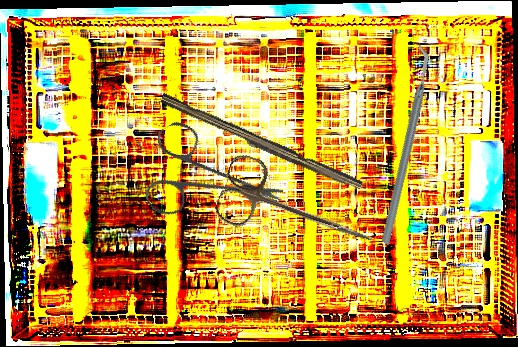Chopper: (312, 43, 496, 246)
Iris Scissors: (120, 92, 287, 260), (211, 151, 385, 270)
Scalpel Handle: (157, 93, 365, 194)
